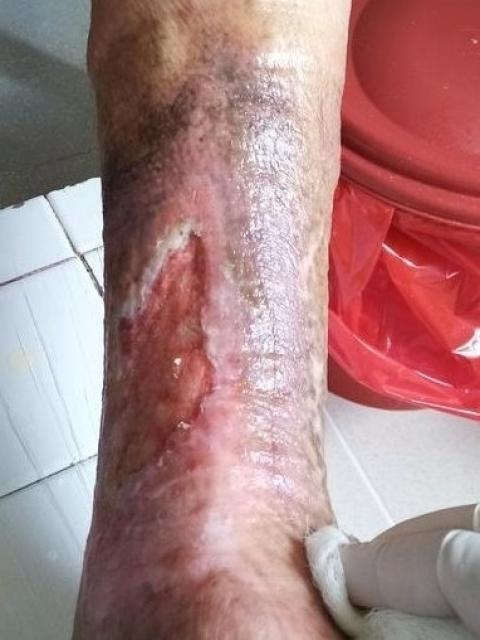wound: (94, 231, 214, 493)
